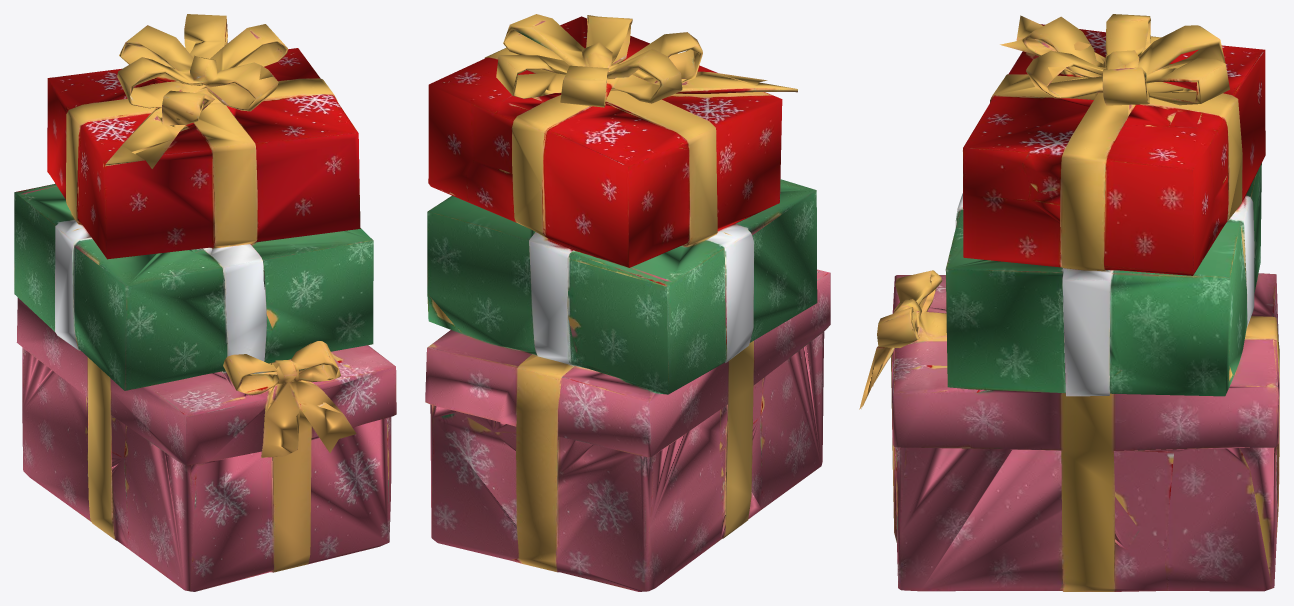
File: toit-cadeaux.glb
3 views of the same model, side by side, from view 1: azimuth 30°, elevation 25°; view 2: azimuth 150°, elevation 25°; view 3: azimuth 270°, elevation 25° (orthographic). The views are drawn at different scales.
Size of the model in its own units: 1.19 by 1.9 by 1.42.
1 material, 1 textured.
